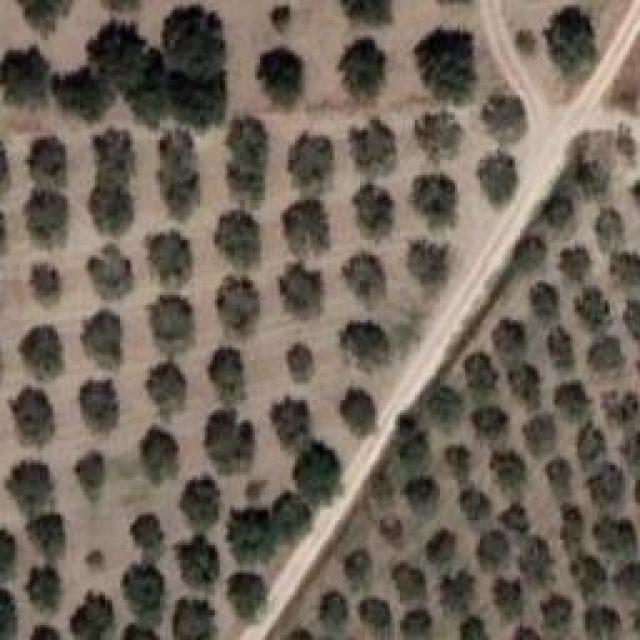Tree: (410, 20, 481, 103), (540, 0, 607, 80), (155, 12, 224, 72), (154, 128, 208, 203), (165, 65, 232, 120), (120, 53, 176, 115), (335, 38, 390, 100), (202, 413, 259, 472), (80, 245, 142, 298), (250, 45, 307, 101), (20, 133, 73, 193), (3, 460, 56, 519), (52, 68, 111, 120), (225, 508, 285, 559), (18, 188, 80, 237), (215, 275, 269, 331), (140, 430, 193, 487), (148, 297, 200, 355), (0, 45, 52, 102), (410, 115, 463, 170), (336, 318, 388, 374), (90, 23, 145, 75), (350, 585, 405, 637), (278, 262, 326, 321), (220, 118, 274, 170), (83, 310, 139, 360), (173, 535, 220, 594), (478, 90, 528, 145), (283, 198, 332, 254), (17, 325, 62, 384), (210, 210, 261, 262), (85, 175, 135, 228), (273, 495, 323, 548), (143, 223, 192, 277), (342, 248, 389, 303), (93, 130, 137, 185), (478, 152, 521, 208), (413, 175, 460, 226), (287, 130, 333, 181), (68, 585, 111, 639), (408, 235, 450, 289), (350, 122, 396, 169), (300, 458, 349, 502), (15, 394, 66, 436), (208, 345, 249, 397), (178, 475, 219, 526), (28, 503, 67, 556), (80, 383, 123, 430), (583, 602, 636, 640), (176, 592, 220, 637), (222, 568, 268, 611), (220, 165, 267, 206), (333, 0, 396, 30), (590, 462, 630, 509), (384, 555, 426, 597), (593, 518, 635, 560), (125, 560, 164, 605), (22, 0, 76, 31), (345, 387, 382, 432), (143, 365, 179, 411), (403, 478, 444, 518), (358, 183, 397, 225), (510, 535, 550, 575), (30, 562, 64, 609), (435, 568, 477, 606), (27, 258, 59, 307), (475, 523, 512, 565), (70, 450, 106, 493), (400, 602, 440, 640), (490, 575, 523, 621), (578, 285, 612, 329), (588, 333, 629, 369), (473, 400, 509, 441), (508, 25, 550, 60), (528, 278, 566, 316), (460, 353, 498, 391), (133, 515, 170, 554), (285, 350, 325, 386), (282, 406, 315, 448), (523, 418, 557, 458), (498, 493, 534, 530), (315, 588, 350, 626), (565, 550, 600, 588), (493, 318, 531, 352), (423, 525, 460, 559), (263, 0, 304, 30), (343, 550, 378, 584), (508, 360, 544, 393), (553, 375, 590, 407), (490, 446, 527, 478), (543, 593, 574, 631), (0, 532, 21, 586), (613, 563, 640, 605), (515, 235, 549, 268), (455, 485, 488, 519), (550, 507, 583, 541), (425, 385, 457, 420), (607, 387, 640, 420), (442, 440, 476, 472), (548, 460, 577, 497), (545, 193, 575, 228), (548, 330, 578, 365), (557, 248, 590, 279), (575, 424, 609, 454), (378, 510, 408, 543), (617, 252, 640, 292), (25, 613, 57, 640), (593, 215, 617, 248), (0, 590, 15, 640), (455, 620, 487, 640), (127, 623, 162, 640), (515, 622, 538, 640)
